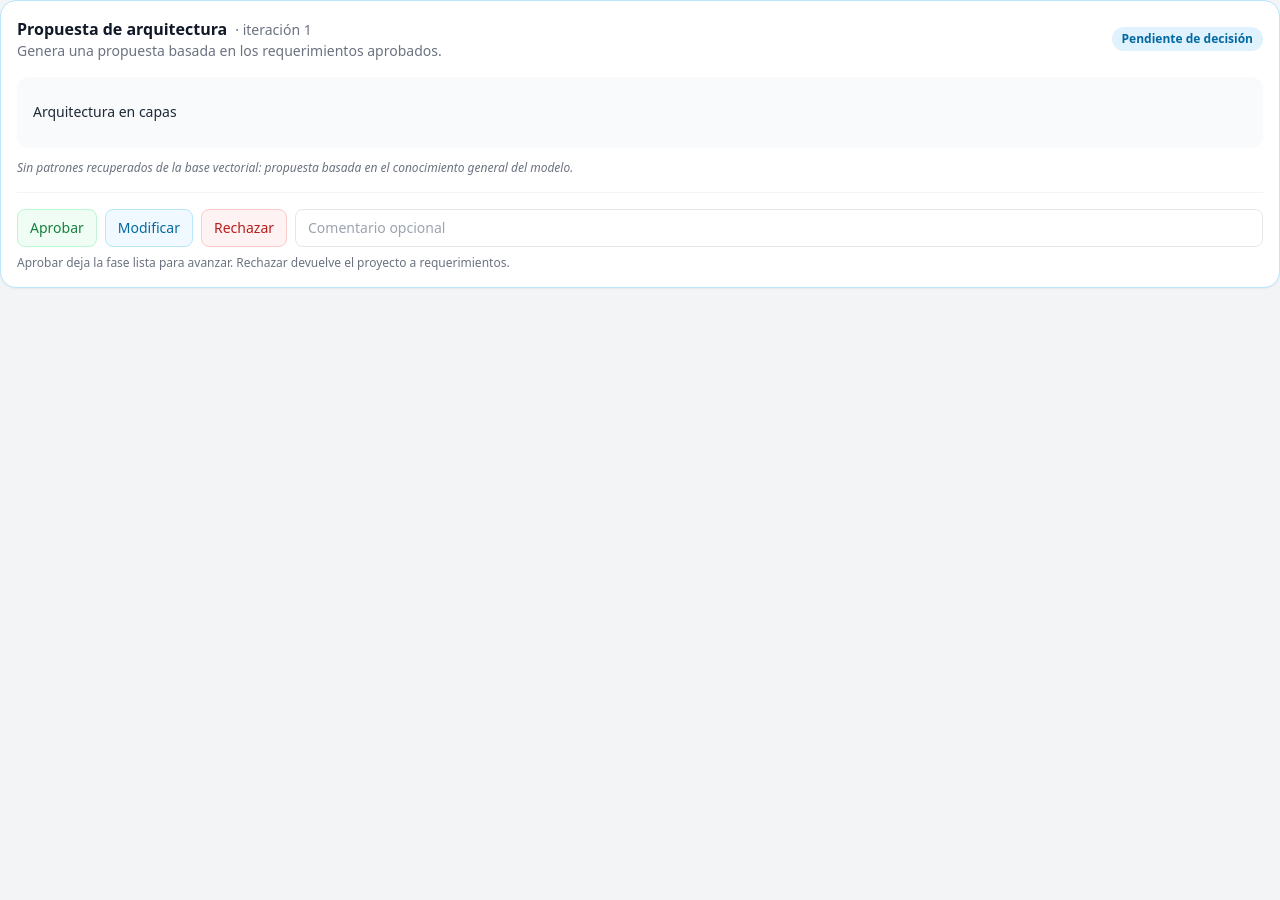
it: ProposalCard › pide confirmación antes de rechazar y no decide si se cancela
This screenshot has width=1280, height=900.
Expected: the element with test id "proposal-content" is shown, [17,77,1263,148]
What coordinates should you click on to do the following:
click the button with test id "proposal-reject"
I would click on:
 (244, 228)
Its box is [201,209,287,247].
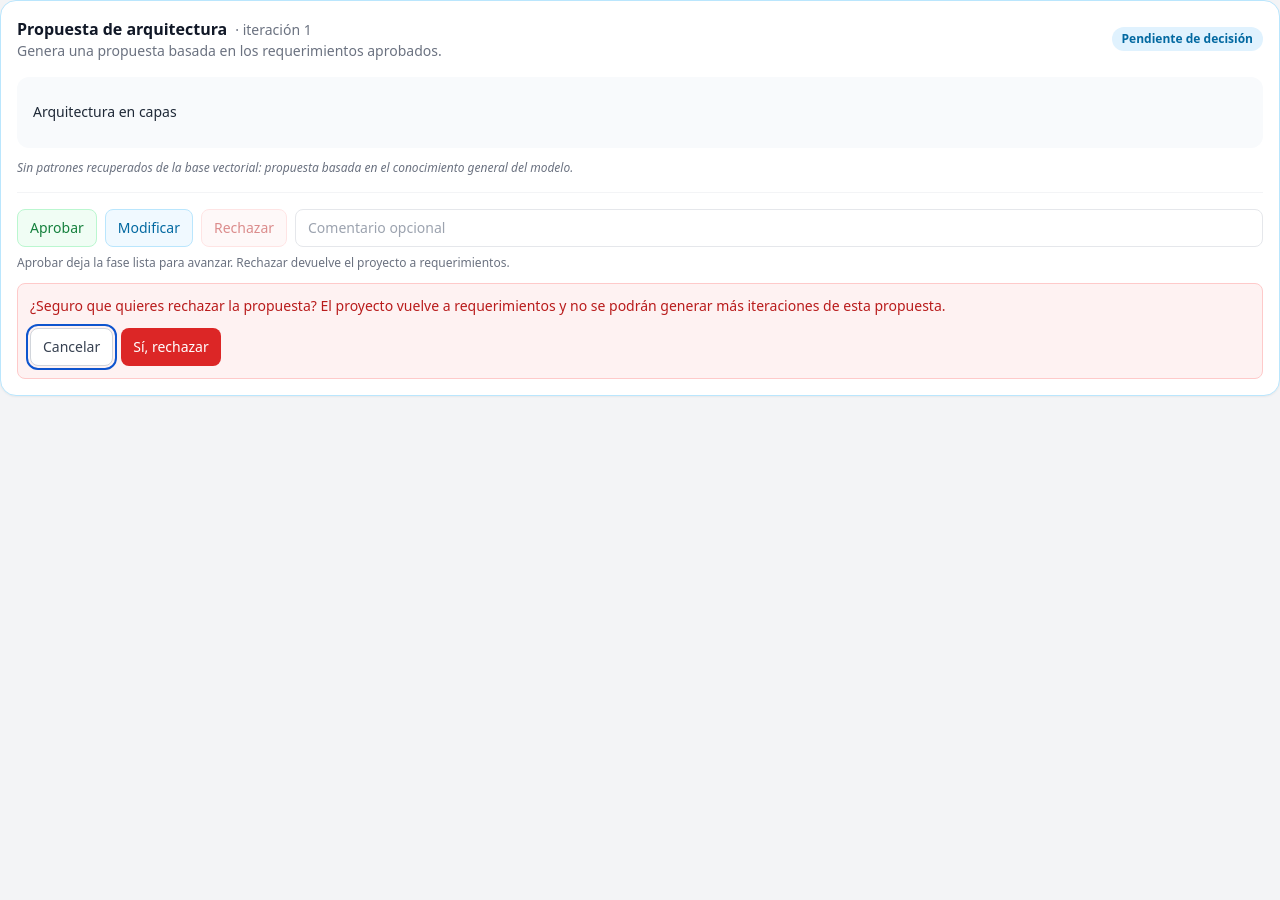
Now the dialog is shown, box [17,283,1263,379]
What coordinates should you click on to do the following:
click the button "Cancelar"
I would click on:
 (72, 347)
Its box is [30,328,113,366].
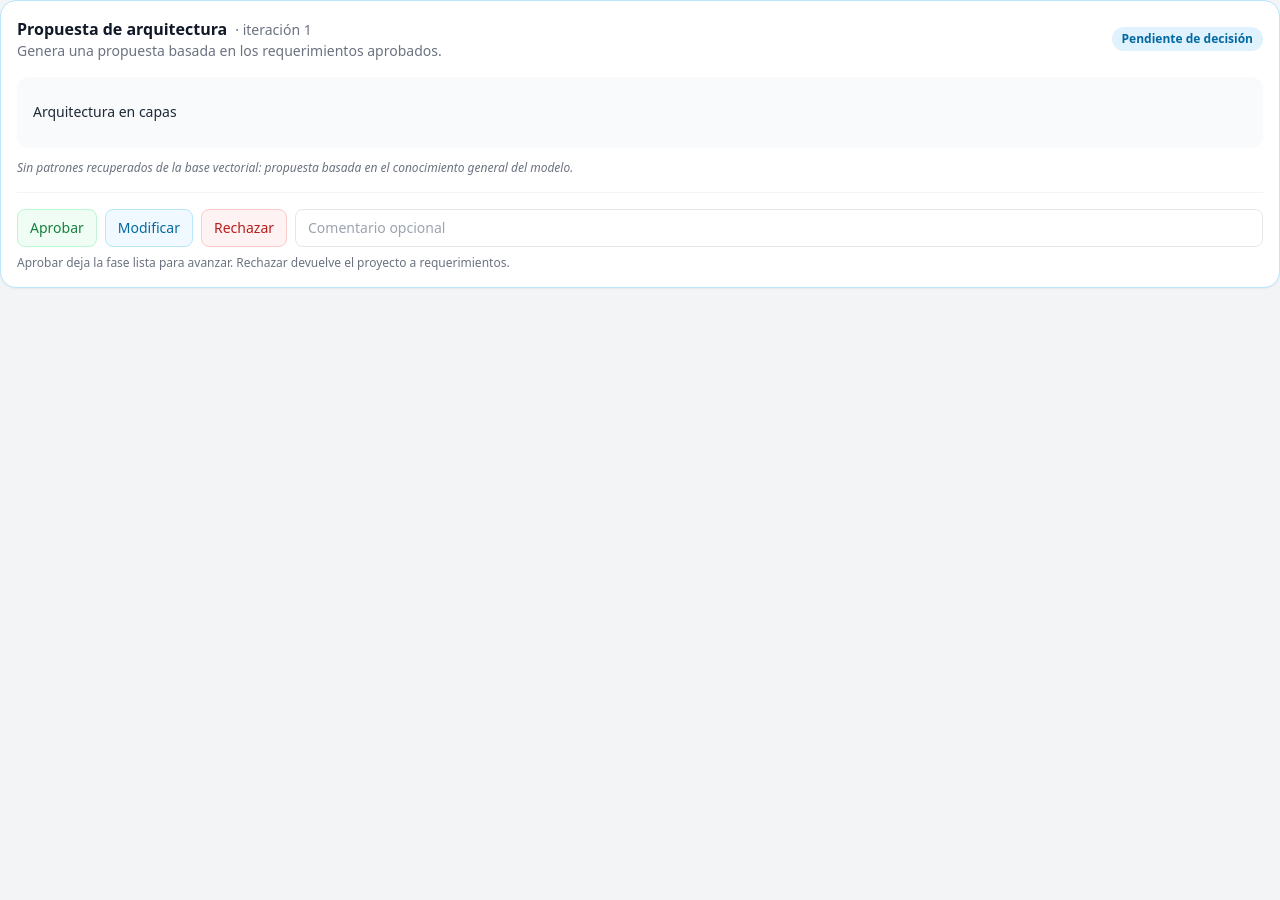
Now the dialog is gone
